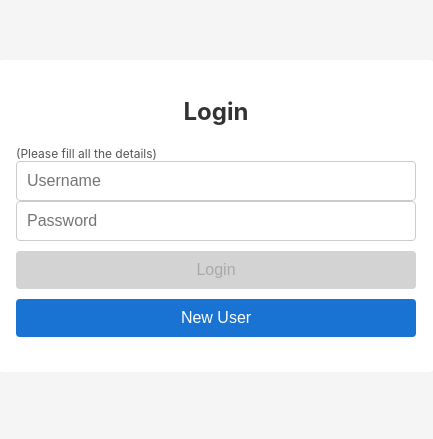
Test: Existing user tries to register again
Click the button with test id "toggle-user-type" at coordinates (216, 318), box [16, 298, 416, 336]
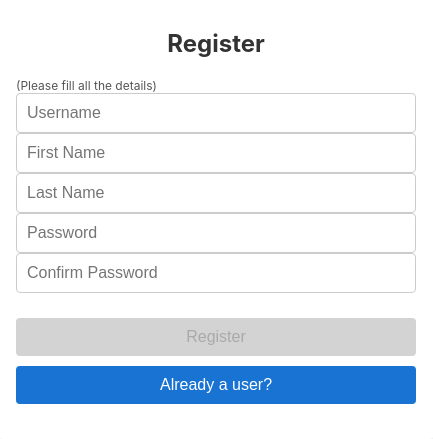
Type "John" into the field with placeholder "Username" at coordinates (216, 113), box [16, 93, 416, 133]
Type "John" into the field with placeholder "First Name" at coordinates (216, 153), box [16, 133, 416, 173]
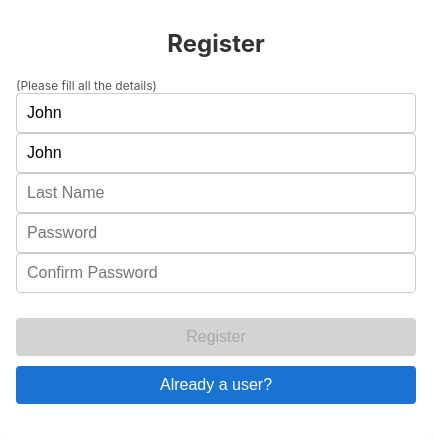
Type "Doe" into the field with placeholder "Last Name" at coordinates (216, 193), box [16, 173, 416, 213]
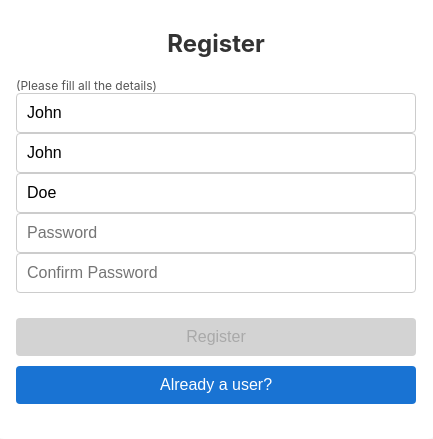
Type "password123" into the password field with placeholder "Password" at coordinates (216, 233), box [16, 213, 416, 253]
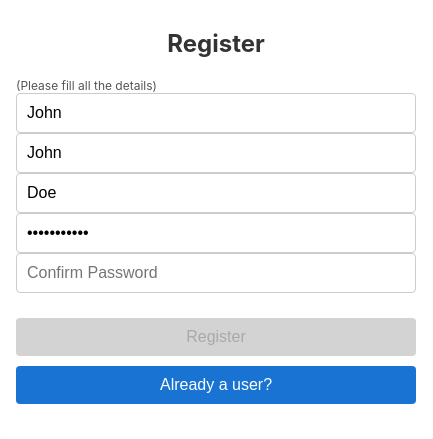
Type "password123" into the password field with placeholder "Confirm Password" at coordinates (216, 273), box [16, 253, 416, 293]
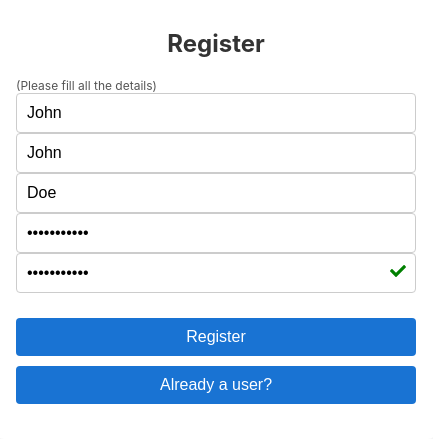
Click the button with test id "login-id" at coordinates (216, 337), box [16, 318, 416, 356]
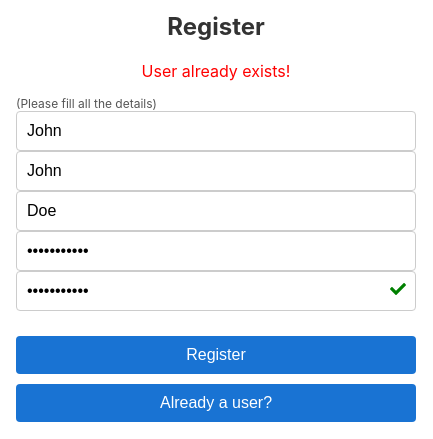
expect the text with test id "error-message" reads "User already exists!": met, box [142, 60, 290, 80]
